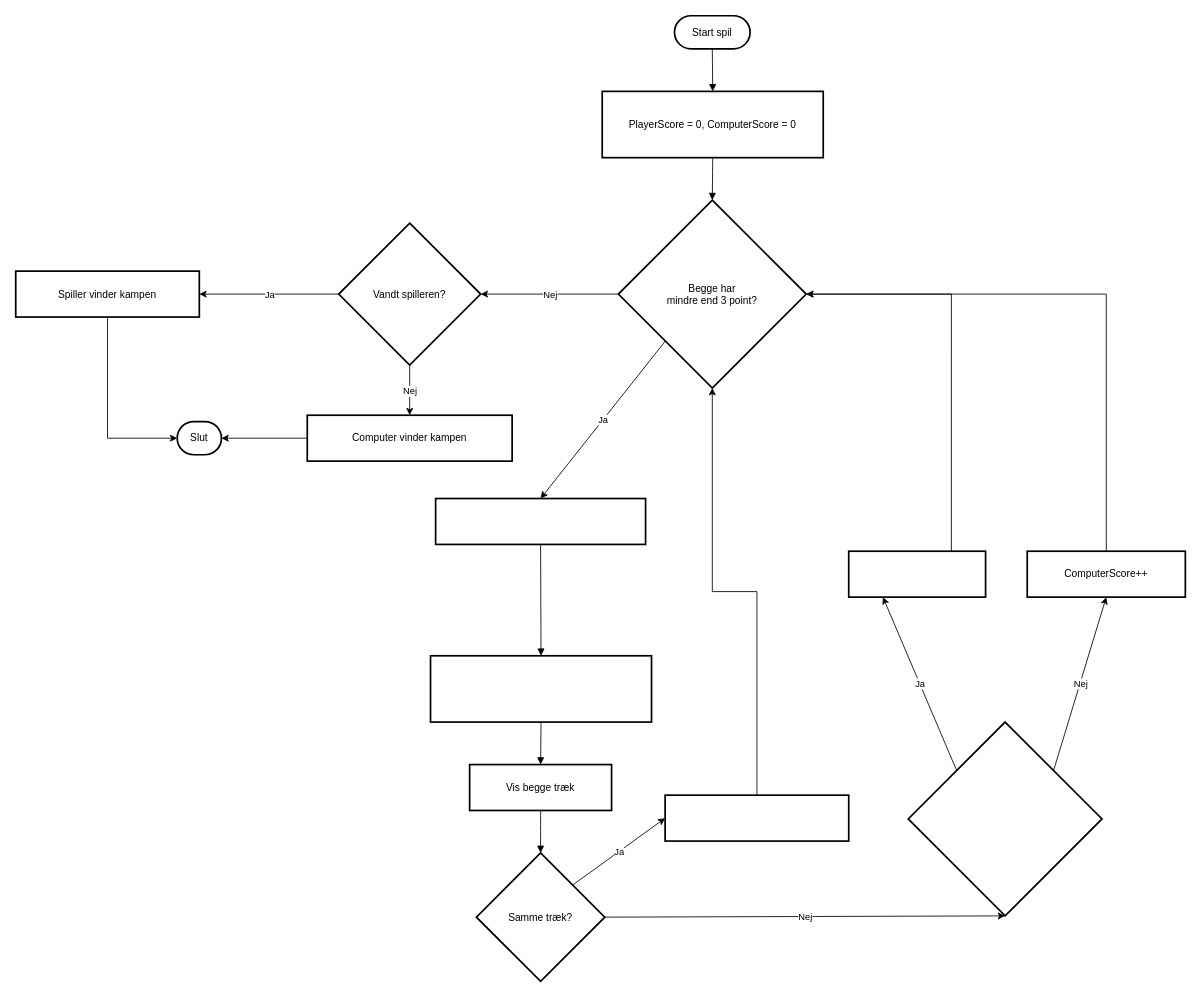
This 1200x996 diagram has some shape labels left out. The centre of each missing label's shape, as x and y in pixels:
"Computer vælger et tilfældigt træk" goes at (540,688).
"PlayerScore++" goes at (916,574).
"Spiller vælger et træk 0-4" goes at (540,521).
"Uafgjort – ingen point" goes at (756,818).
"Vinder spilleren runden?" goes at (1004,818).
